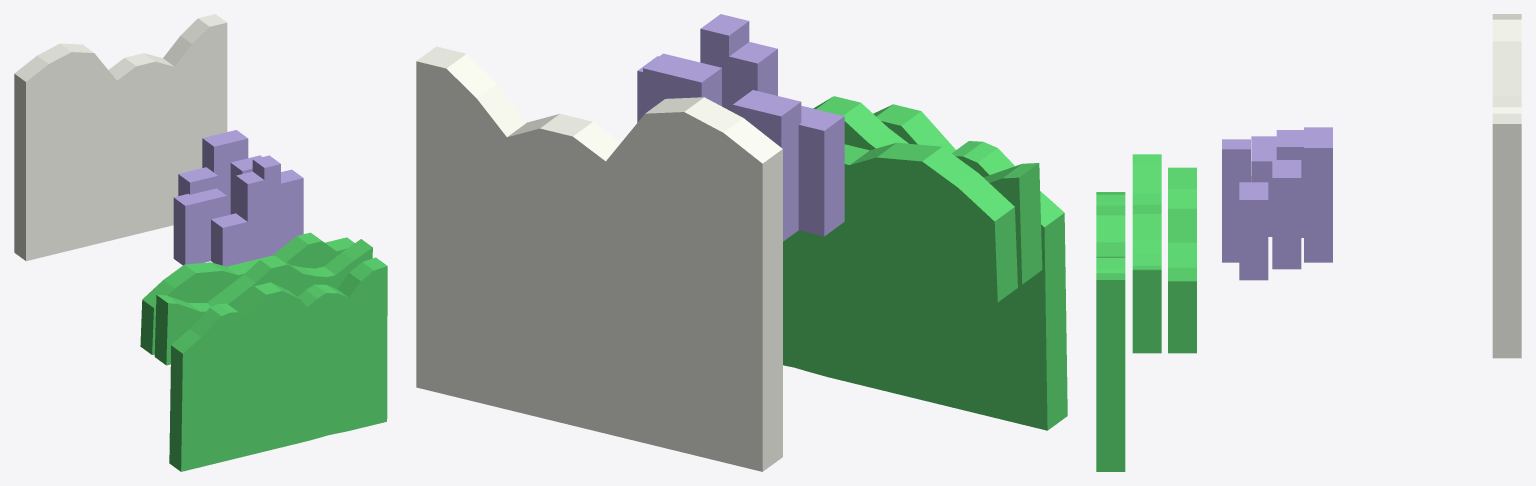
File: background.fbx
3 renders of one model, left to right at view 1: azimuth 30°, elevation 25°; view 2: azimuth 150°, elevation 25°; view 3: azimuth 270°, elevation 25°, orthographic. The views are drawn at different scales.
Parts seen in each view (by area): view 1: pasto.003, pasto, pasto.001, pasto.002, buildiing.002, buildiing.003, buildiing.006, buildiing.001, buildiing.005, buildiing.004, buildiing; view 2: pasto.003, pasto, pasto.002, pasto.001, buildiing.003, buildiing.002, buildiing.004, buildiing.006; view 3: pasto.003, pasto, pasto.001, pasto.002, buildiing.006, buildiing, buildiing.005, buildiing.002, buildiing.003, buildiing.004.
Boxes of the visible parts, left/top/right/bottom form: pasto.003: left=14, top=14, right=227, bottom=261; pasto: left=169, top=257, right=387, bottom=471; pasto.001: left=154, top=239, right=372, bottom=365; pasto.002: left=140, top=232, right=354, bottom=354; buildiing.002: left=236, top=155, right=280, bottom=261; buildiing.003: left=173, top=188, right=226, bottom=265; buildiing.006: left=202, top=130, right=248, bottom=215; buildiing.001: left=211, top=213, right=247, bottom=266; buildiing.005: left=281, top=169, right=303, bottom=248; buildiing.004: left=178, top=167, right=218, bottom=195; buildiing: left=230, top=155, right=261, bottom=214; pasto.003: left=416, top=46, right=782, bottom=471; pasto: left=783, top=104, right=1067, bottom=430; pasto.002: left=783, top=142, right=1017, bottom=302; pasto.001: left=813, top=96, right=1042, bottom=284; buildiing.003: left=798, top=105, right=844, bottom=236; buildiing.002: left=700, top=14, right=777, bottom=111; buildiing.004: left=732, top=90, right=801, bottom=241; buildiing.006: left=643, top=53, right=721, bottom=115; pasto.003: left=1492, top=14, right=1521, bottom=358; pasto: left=1096, top=192, right=1125, bottom=471; pasto.001: left=1132, top=154, right=1161, bottom=353; pasto.002: left=1168, top=167, right=1196, bottom=353; buildiing.006: left=1304, top=127, right=1332, bottom=262; buildiing: left=1272, top=160, right=1301, bottom=269; buildiing.005: left=1239, top=182, right=1268, bottom=280; buildiing.002: left=1222, top=139, right=1250, bottom=262; buildiing.003: left=1251, top=136, right=1276, bottom=236; buildiing.004: left=1276, top=130, right=1303, bottom=237.
Bounding box in the file's own units: 2034 × 2730 × 2934.
